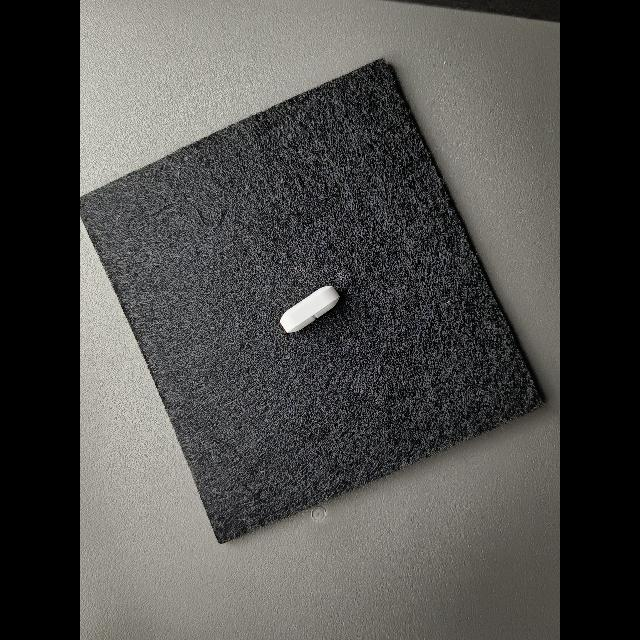Intact Pill: (280, 285, 340, 333)
